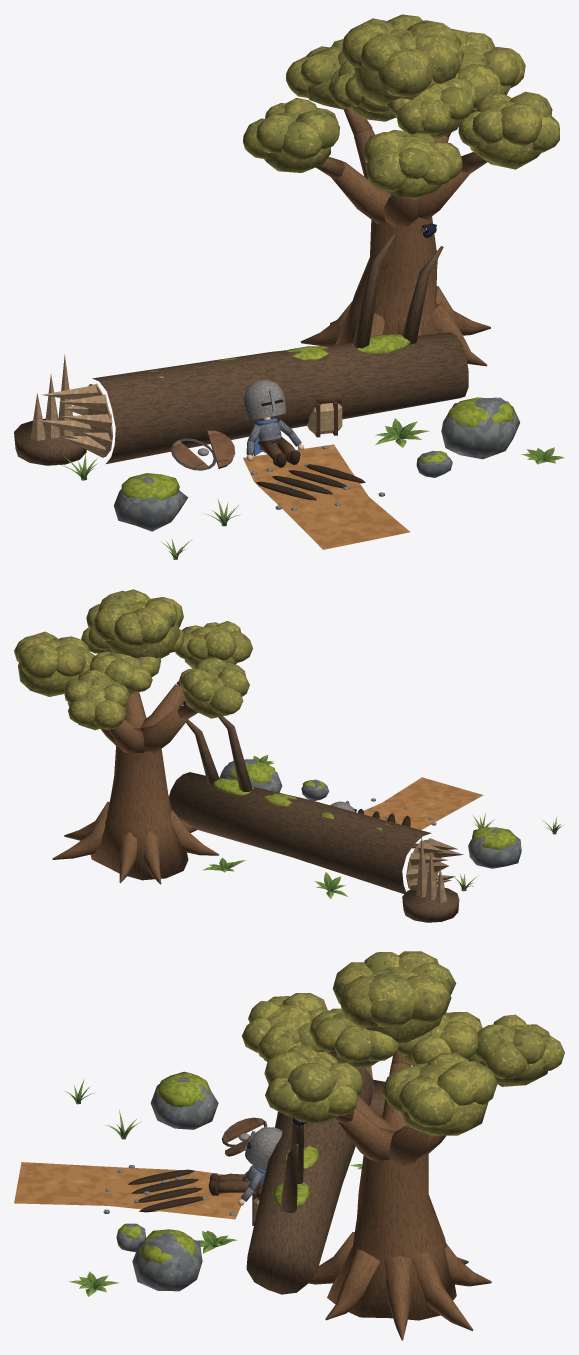
Rendered from ev12_corpse.glb.
3 renders of one model, top to bottom at view 1: azimuth 30°, elevation 25°; view 2: azimuth 150°, elevation 25°; view 3: azimuth 270°, elevation 25°, orthographic. The views are drawn at different scales.
Visible parts, largest first — view 1: ev12_corpse_tree_crown, ev12_corpse_fallen_log, ev12_corpse_ground_details, ev12_corpse_tree_trunk, ev12_corpse_mercenary, ev12_corpse_props, ev12_corpse_plants; view 2: ev12_corpse_tree_crown, ev12_corpse_fallen_log, ev12_corpse_tree_trunk, ev12_corpse_ground_details, ev12_corpse_plants; view 3: ev12_corpse_tree_crown, ev12_corpse_tree_trunk, ev12_corpse_ground_details, ev12_corpse_fallen_log, ev12_corpse_mercenary, ev12_corpse_plants, ev12_corpse_props.
Part boxes in pixels (bbox=[...]): ev12_corpse_tree_crown: bbox=[243, 14, 559, 199]; ev12_corpse_fallen_log: bbox=[14, 234, 468, 465]; ev12_corpse_ground_details: bbox=[113, 397, 520, 549]; ev12_corpse_tree_trunk: bbox=[300, 108, 490, 366]; ev12_corpse_mercenary: bbox=[243, 380, 304, 467]; ev12_corpse_props: bbox=[170, 391, 342, 470]; ev12_corpse_plants: bbox=[58, 418, 564, 559]; ev12_corpse_tree_crown: bbox=[14, 589, 252, 730]; ev12_corpse_fallen_log: bbox=[169, 716, 463, 922]; ev12_corpse_tree_trunk: bbox=[52, 681, 219, 884]; ev12_corpse_ground_details: bbox=[219, 759, 521, 868]; ev12_corpse_plants: bbox=[202, 755, 562, 898]; ev12_corpse_tree_crown: bbox=[242, 951, 564, 1135]; ev12_corpse_tree_trunk: bbox=[308, 1052, 491, 1340]; ev12_corpse_ground_details: bbox=[14, 1071, 243, 1291]; ev12_corpse_fallen_log: bbox=[246, 1066, 385, 1294]; ev12_corpse_mercenary: bbox=[208, 1127, 282, 1205]; ev12_corpse_plants: bbox=[64, 1079, 362, 1296]; ev12_corpse_props: bbox=[222, 1117, 267, 1225].
Size of what is drawn, in the model's own units: 8.29 by 4.99 by 7.29.
23 materials, 23 textured.
